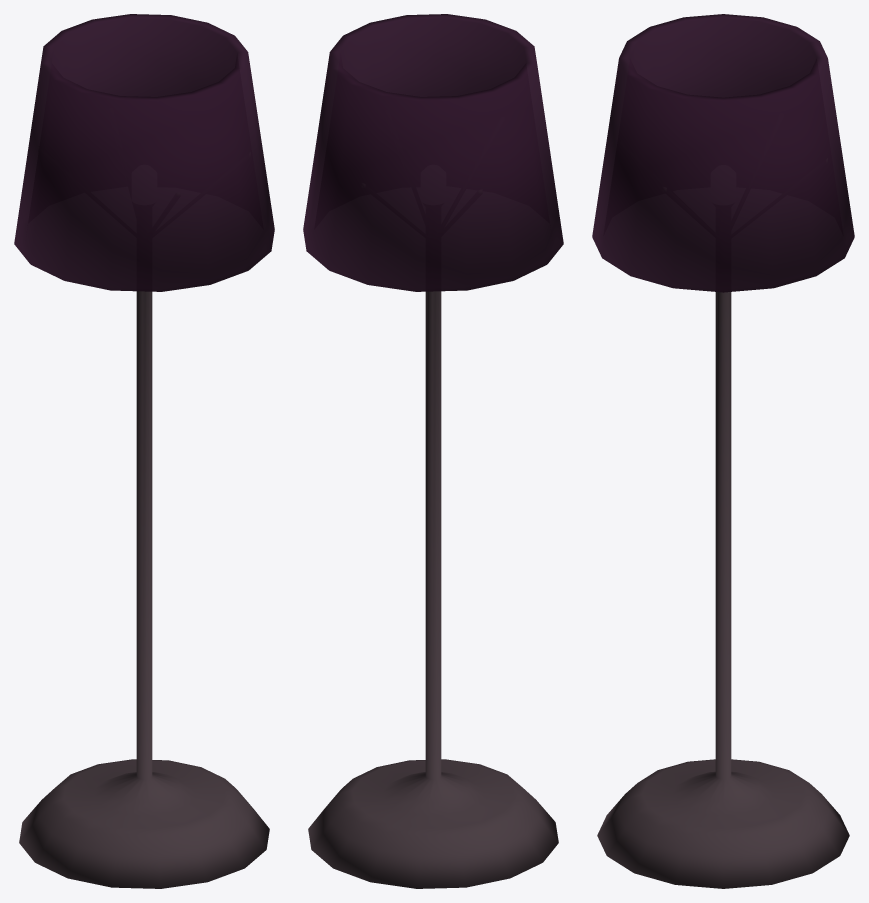
Rendered from purple tall lamp.fbx.
3 renders of one model, left to right at view 1: azimuth 30°, elevation 25°; view 2: azimuth 150°, elevation 25°; view 3: azimuth 270°, elevation 25°, orthographic.
Parts seen in each view (by area): view 1: Cylinder; view 2: Cylinder; view 3: Cylinder.
Boxes of the visible parts, x1,y1,x2,y2 form: Cylinder: [14, 14, 274, 888]; Cylinder: [303, 14, 563, 888]; Cylinder: [592, 14, 854, 888].
Bounding box in the file's own units: 59.31 × 194 × 59.31.
